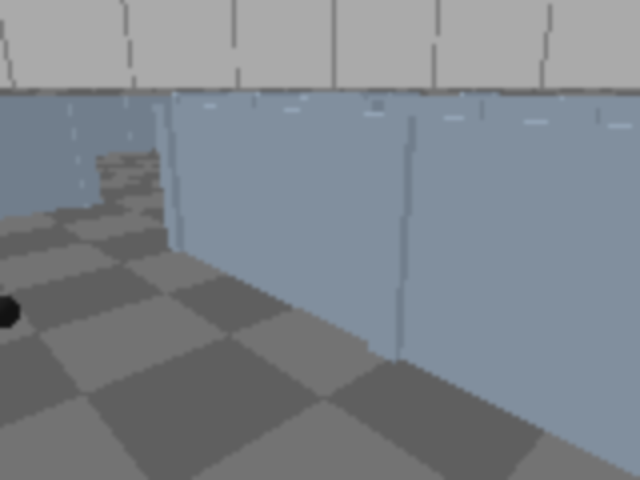puck: (0, 290, 30, 338)
